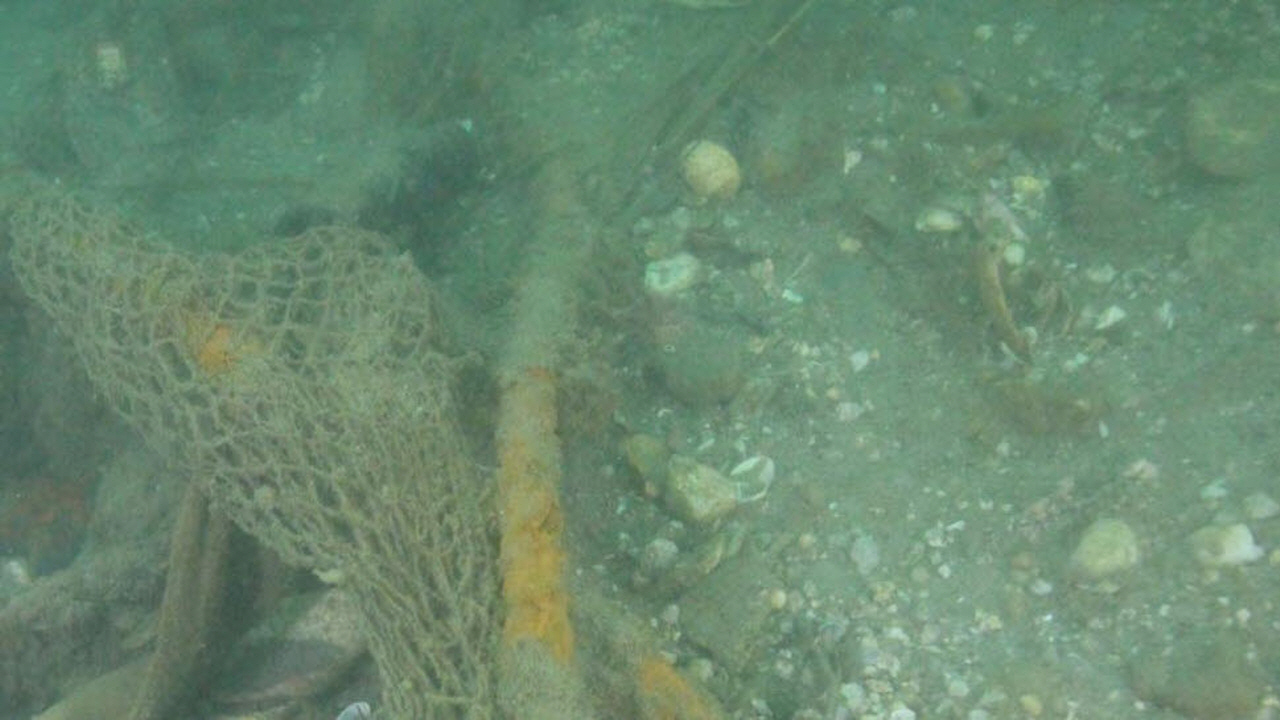fish net: (0, 188, 506, 720)
